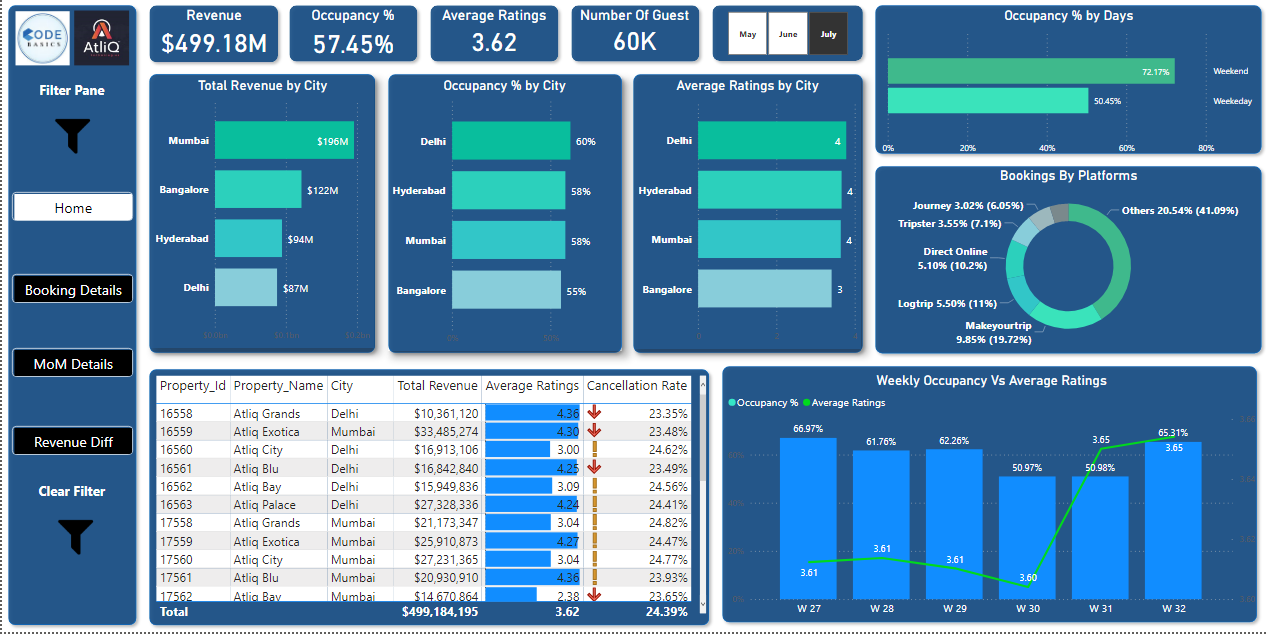

This screenshot's page, from the dashboard's own definition file:
{"tool":"powerbi","page":{"name":"Home Page","canvas":[1800,900],"ordinal":1},"visuals":[{"type":"shape","box":[1000.9,0,231.8,96.7],"z":0},{"type":"shape","box":[1232.7,0,567.3,228.9],"z":1000},{"type":"shape","box":[1015.2,513.3,777.7,382.5],"z":2000},{"type":"shape","box":[200.4,517.7,814,381.7],"z":3000},{"type":"shape","box":[889.2,98.6,344.2,414.1],"z":4000},{"type":"shape","box":[539.6,98.6,349.6,414.1],"z":5000},{"type":"shape","box":[200.8,98.6,338.8,414.1],"z":6000},{"type":"shape","box":[800.5,0,200.5,98.1],"z":7000},{"type":"shape","box":[600,0,200.5,98.1],"z":8000},{"type":"shape","box":[0,0,200.4,899.4],"z":9000},{"type":"shape","box":[399.5,0,200.5,98.1],"z":10000},{"type":"card","title":"Occupancy %","fields":{"Values":["Main Measure.Occupancy %"]},"box":[412.5,10.9,173.4,75],"z":11000},{"type":"card","title":"Average Ratings","fields":{"Values":["Main Measure.Average Ratings"]},"box":[610.9,10.9,176.6,68.8],"z":12000},{"type":"card","title":"Number Of Guest","fields":{"Values":["Main Measure.Actual Guest"]},"box":[812.5,10.9,175,65.6],"z":13000},{"type":"slicer","fields":{"Values":["Dim_Date.Mm Yy.Variation.Date Hierarchy.Month"]},"box":[1006.6,11.4,220.4,75.4],"z":14000},{"type":"barChart","fields":{"Category":["Dim_Hotels.City"],"Y":["Main Measure.Total Revenue"]},"box":[211.6,111.2,317.3,385.5],"z":15000},{"type":"barChart","fields":{"Category":["Dim_Hotels.City"],"Y":["Main Measure.Occupancy %"]},"box":[548.6,111.2,331.7,389],"z":16000},{"type":"shape","box":[200.8,0,200.8,98.6],"z":17000},{"type":"card","title":"Revenue","fields":{"Values":["Main Measure.Total Revenue"]},"box":[201.9,11.4,199.1,73.9],"z":18000},{"type":"barChart","fields":{"Category":["Dim_Hotels.City"],"Y":["Main Measure.Average Ratings"]},"box":[898.2,111.2,322.7,387.3],"z":19000},{"type":"tableEx","fields":{"Values":["Dim_Hotels.Property_Id","Dim_Hotels.Property_Name","Dim_Hotels.City","Main Measure.Total Revenue","Main Measure.Average Ratings","Main Measure.Cancellation Rate"]},"box":[213.3,530.3,793.4,356.9],"z":20000},{"type":"lineClusteredColumnComboChart","title":"Weekly Occupancy Vs Average Ratings","fields":{"Category":["Dim_Date.Week No"],"Y":["Main Measure.Occupancy %"],"Y2":["Main Measure.Average Ratings"]},"box":[1026.5,530.3,760.7,356.9],"z":21000},{"type":"clusteredBarChart","title":"Occupancy % by Days","fields":{"Category":["Dim_Date.Day Time"],"Y":["Main Measure.Occupancy %"]},"box":[1245.3,10.9,542.2,218.8],"z":22000},{"type":"shape","box":[1232.7,228.9,567.3,284.4],"z":23000},{"type":"donutChart","title":"Bookings By Platforms","fields":{"Category":["Fact_Bookings.Booking_Platform"],"Y":["Main Measure.Booking %"]},"box":[1232.7,238.9,567.3,260.2],"z":24000},{"type":"image","box":[14.2,11.4,86.7,88.2],"z":25000},{"type":"image","box":[96.7,11.4,89.6,88.2],"z":26000},{"type":"image","box":[64.1,156.2,73.4,73.4],"z":27000},{"type":"actionButton","box":[14.1,275,171.9,40.6],"z":29000},{"type":"actionButton","box":[14.3,390.8,172.1,41.2],"z":30000},{"type":"actionButton","box":[14.3,496.6,172.1,41.2],"z":31000},{"type":"actionButton","box":[14.3,607.8,172.1,41.2],"z":32000},{"type":"textbox","box":[17.2,110.9,164.1,45.3],"z":33000},{"type":"image","box":[68.8,726.6,73.4,73.4],"z":34000},{"type":"textbox","box":[17.2,681.2,164.1,45.3],"z":35000}]}

Visuals, with their boxes in screenshot pixels (x1, y1, x2, y2), scaled from the page's 1800x900 canvas onto the 1266x634 screenshot:
shape: [left=704, top=0, right=867, bottom=68]
shape: [left=867, top=0, right=1265, bottom=161]
shape: [left=714, top=362, right=1261, bottom=631]
shape: [left=141, top=365, right=713, bottom=633]
shape: [left=625, top=69, right=867, bottom=361]
shape: [left=380, top=69, right=625, bottom=361]
shape: [left=141, top=69, right=380, bottom=361]
shape: [left=563, top=0, right=704, bottom=69]
shape: [left=422, top=0, right=563, bottom=69]
shape: [left=0, top=0, right=141, bottom=633]
shape: [left=281, top=0, right=422, bottom=69]
"Occupancy %" card: [left=290, top=8, right=412, bottom=61]
"Average Ratings" card: [left=430, top=8, right=554, bottom=56]
"Number Of Guest" card: [left=571, top=8, right=695, bottom=54]
slicer - Dim_Date.Mm Yy.Variation.Date Hierarchy.Month: [left=708, top=8, right=863, bottom=61]
barChart - Dim_Hotels.City x Main Measure.Total Revenue: [left=149, top=78, right=372, bottom=350]
barChart - Dim_Hotels.City x Main Measure.Occupancy %: [left=386, top=78, right=619, bottom=352]
shape: [left=141, top=0, right=282, bottom=69]
"Revenue" card: [left=142, top=8, right=282, bottom=60]
barChart - Dim_Hotels.City x Main Measure.Average Ratings: [left=632, top=78, right=859, bottom=351]
tableEx - Dim_Hotels.Property_Id x Dim_Hotels.Property_Name: [left=150, top=374, right=708, bottom=625]
"Weekly Occupancy Vs Average Ratings" lineClusteredColumnComboChart: [left=722, top=374, right=1257, bottom=625]
"Occupancy % by Days" clusteredBarChart: [left=876, top=8, right=1257, bottom=162]
shape: [left=867, top=161, right=1265, bottom=362]
"Bookings By Platforms" donutChart: [left=867, top=168, right=1265, bottom=352]
image: [left=10, top=8, right=71, bottom=70]
image: [left=68, top=8, right=131, bottom=70]
image: [left=45, top=110, right=97, bottom=162]
actionButton: [left=10, top=194, right=131, bottom=222]
actionButton: [left=10, top=275, right=131, bottom=304]
actionButton: [left=10, top=350, right=131, bottom=379]
actionButton: [left=10, top=428, right=131, bottom=457]
textbox: [left=12, top=78, right=128, bottom=110]
image: [left=48, top=512, right=100, bottom=564]
textbox: [left=12, top=480, right=128, bottom=512]
